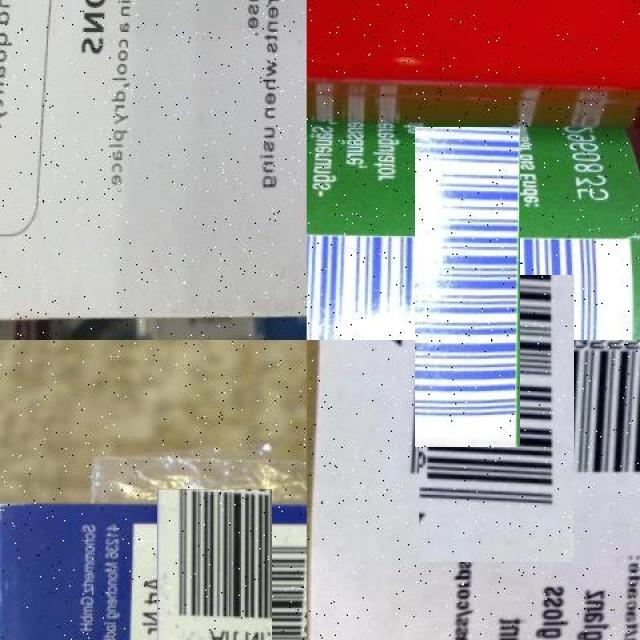Barcode: (386, 307, 607, 529), (361, 181, 574, 394), (138, 507, 289, 640)
